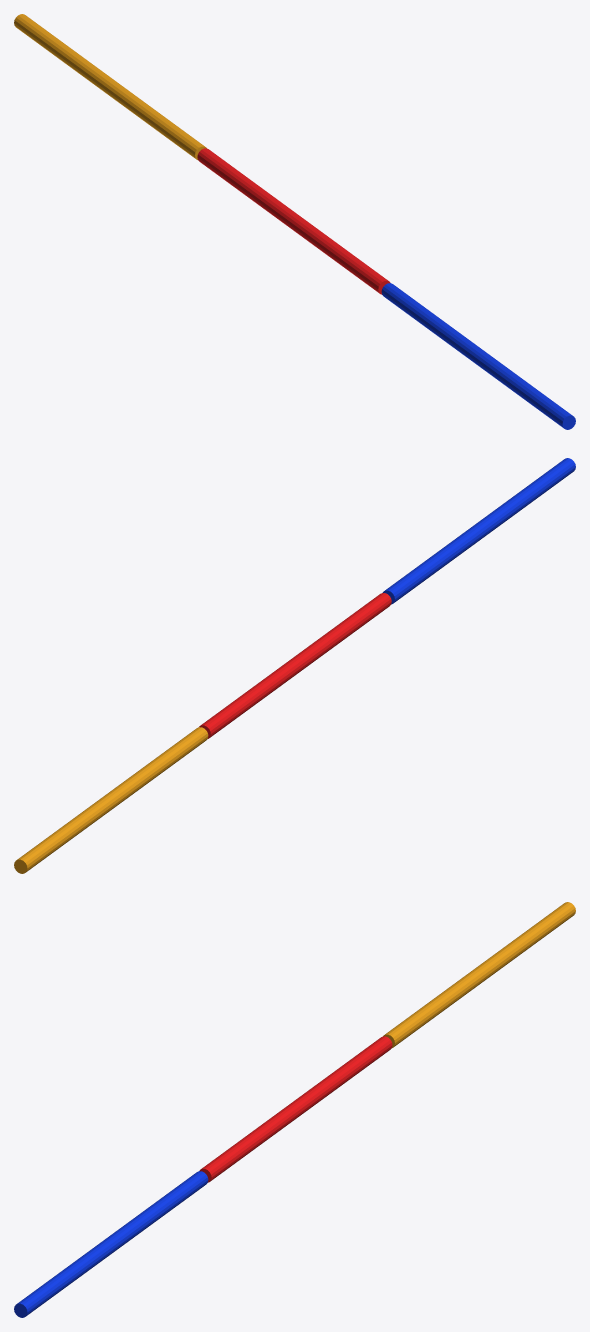
The model's file is GiudLine.fbx.
3 renders of one model, top to bottom at view 1: azimuth 30°, elevation 25°; view 2: azimuth 150°, elevation 25°; view 3: azimuth 330°, elevation 25°, orthographic.
Parts seen in each view (by area): view 1: Cylinder, Cylinder.001, Cylinder.002; view 2: Cylinder.002, Cylinder, Cylinder.001; view 3: Cylinder, Cylinder.001, Cylinder.002.
Boxes of the visible parts, left/top/right/bottom form: Cylinder: left=381, top=283, right=575, bottom=429; Cylinder.001: left=197, top=148, right=390, bottom=294; Cylinder.002: left=14, top=14, right=206, bottom=159; Cylinder.002: left=14, top=727, right=208, bottom=873; Cylinder: left=382, top=458, right=575, bottom=604; Cylinder.001: left=199, top=593, right=391, bottom=738; Cylinder: left=14, top=1171, right=208, bottom=1317; Cylinder.001: left=199, top=1036, right=392, bottom=1182; Cylinder.002: left=383, top=902, right=575, bottom=1047.
Size of the model in its own units: 2.58 by 2.58 by 182.
